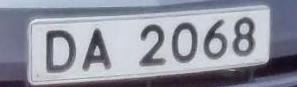0: (168, 16, 202, 68)
2: (136, 16, 172, 75)
6: (198, 15, 233, 63)
8: (229, 13, 259, 63)
A: (81, 21, 119, 77)
D: (41, 27, 82, 76)
